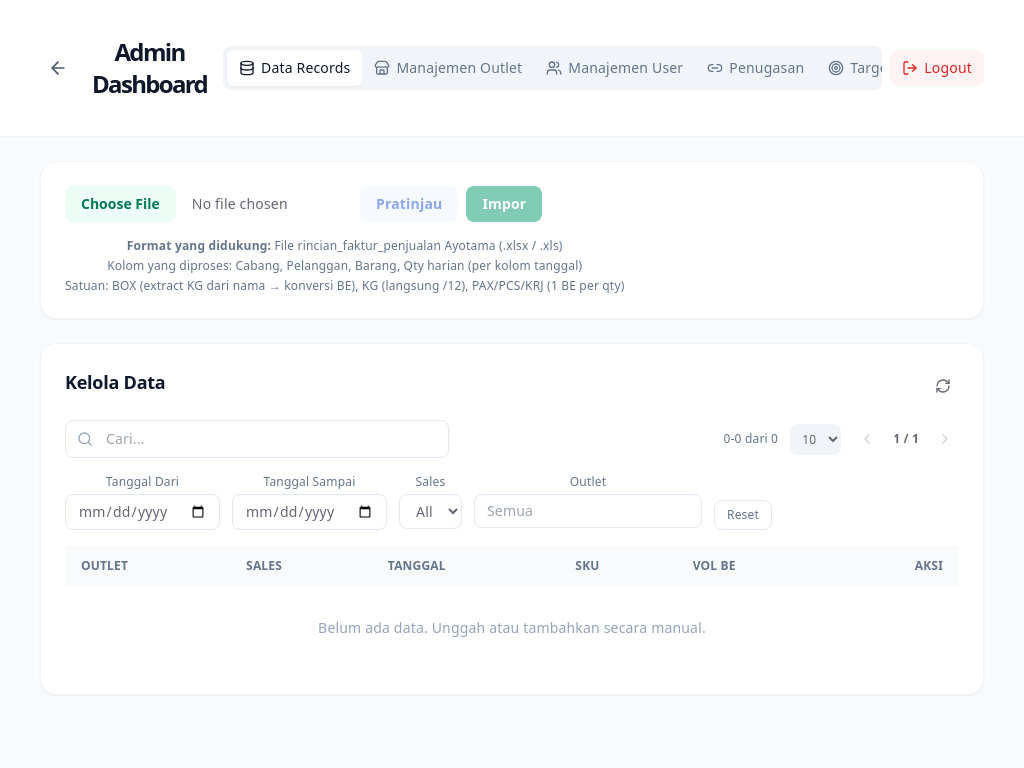
Scenario: AdminDashboard AlertModal on CRUD › handleCrud success › shows success AlertModal after creating a user
The width and height of the screenshot is (1024, 768).
Expected: the text "Data Records" is shown, [261, 58, 350, 78]
Click the button "Manajemen User".
click(615, 68)  # box [534, 50, 695, 86]
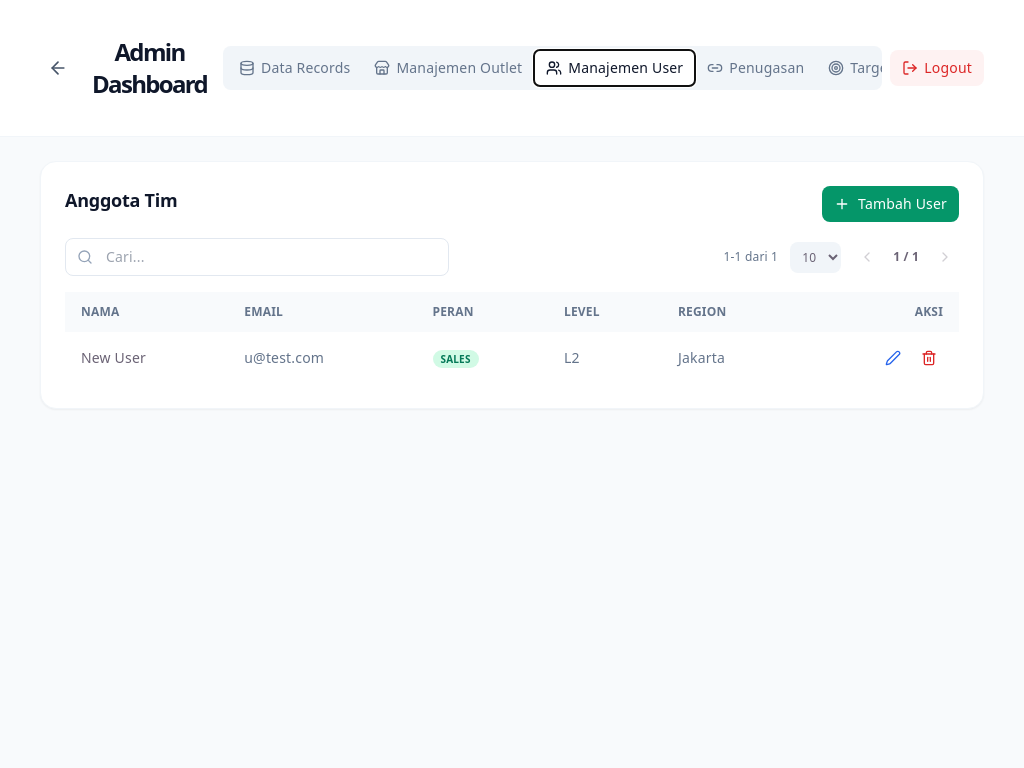
Expected: the button "Tambah User" is shown
Click the button "Tambah User".
click(890, 204)  # box [822, 186, 959, 222]
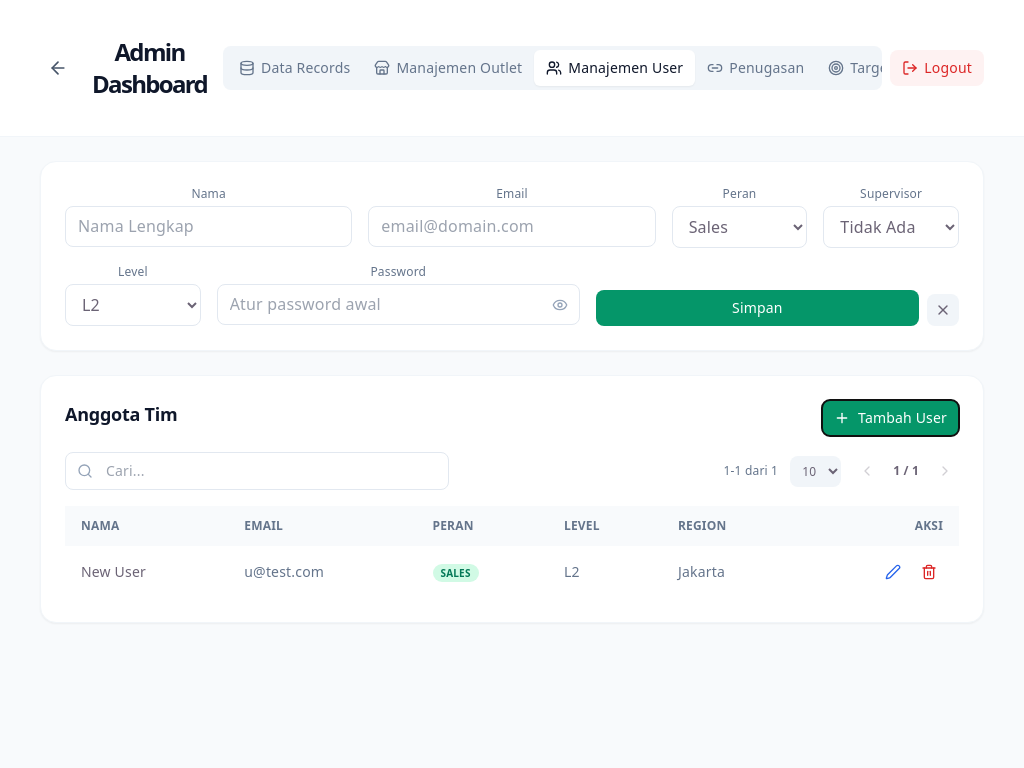
Type "New User" into the field with placeholder "Nama Lengkap".
click(209, 227); type("New User")  # box [65, 206, 352, 247]
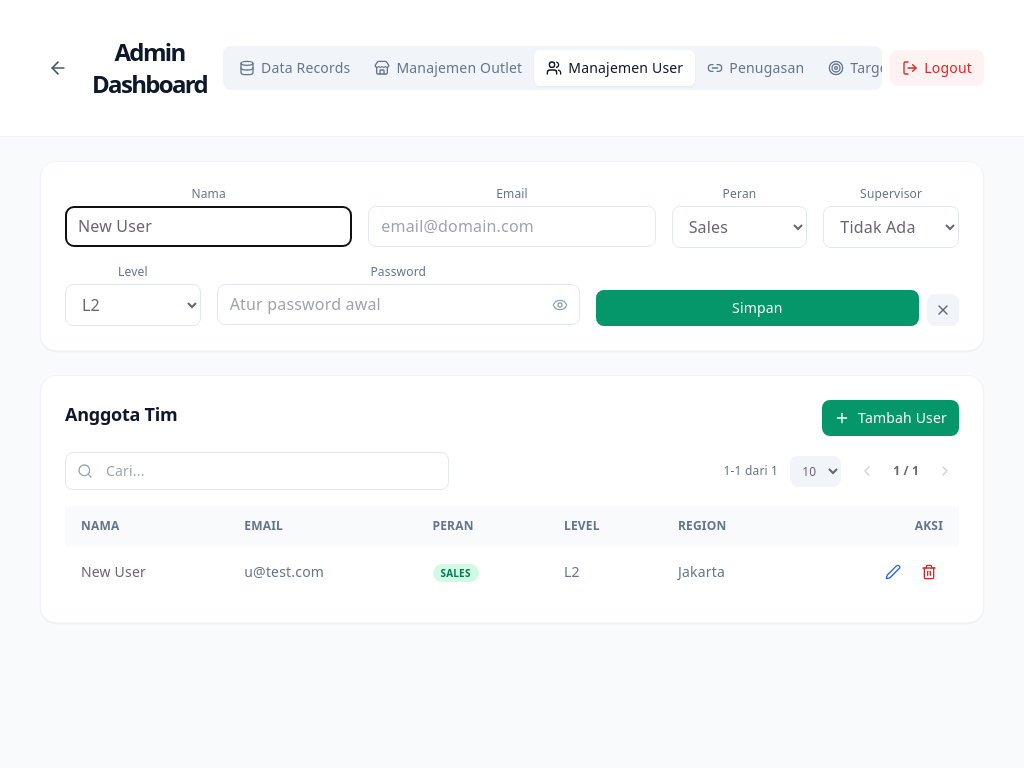
Type "u@test.com" into the field with placeholder "email@domain.com".
click(512, 227); type("u@test.com")  # box [368, 206, 656, 247]
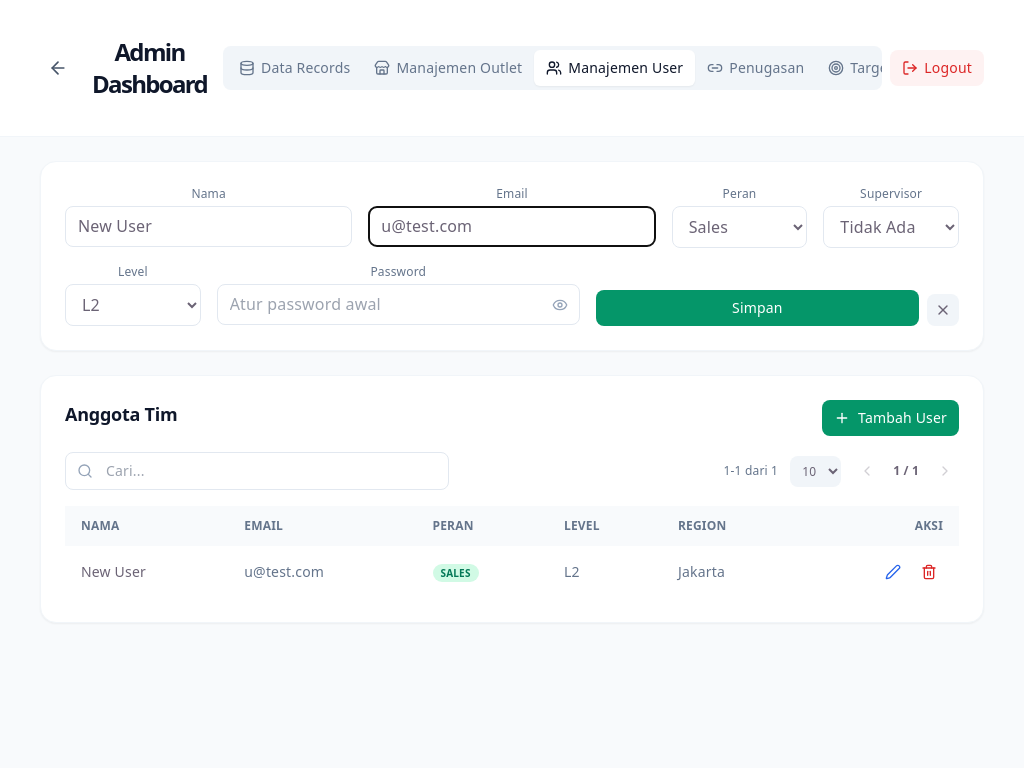
Type "Password12345" into the password field with placeholder "Atur password awal".
click(398, 305); type("Password12345")  # box [217, 284, 580, 325]
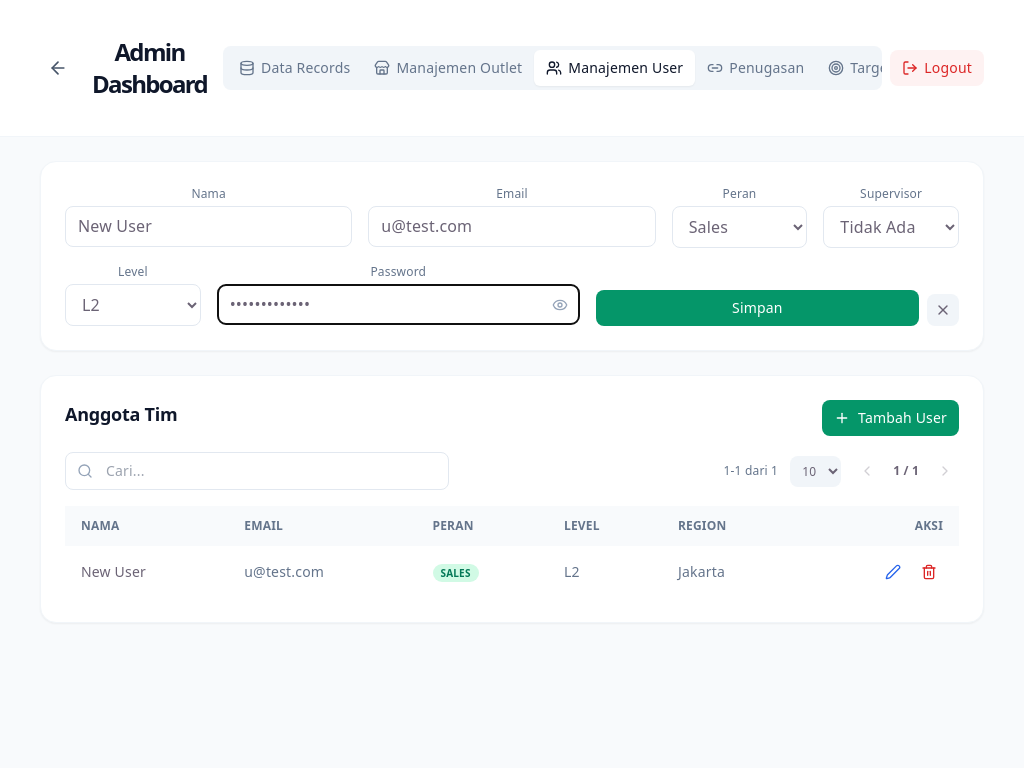
Click the button "Simpan".
click(757, 308)  # box [596, 290, 919, 326]
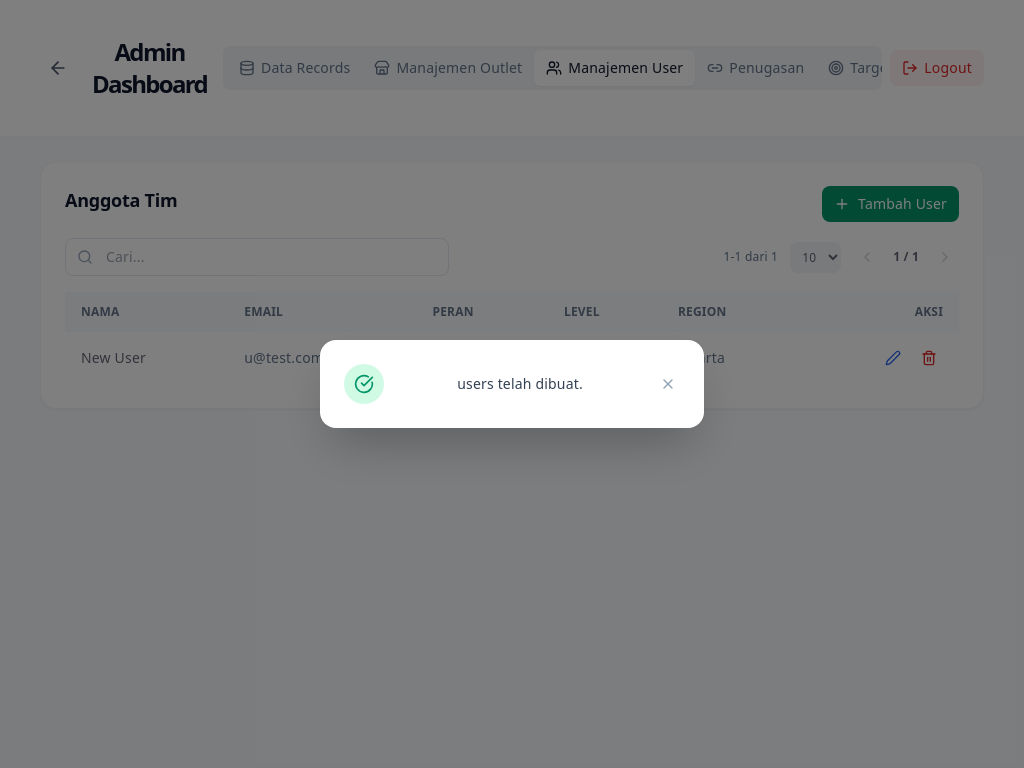
Expected: the text "users telah dibuat." is shown, [457, 374, 583, 393]
